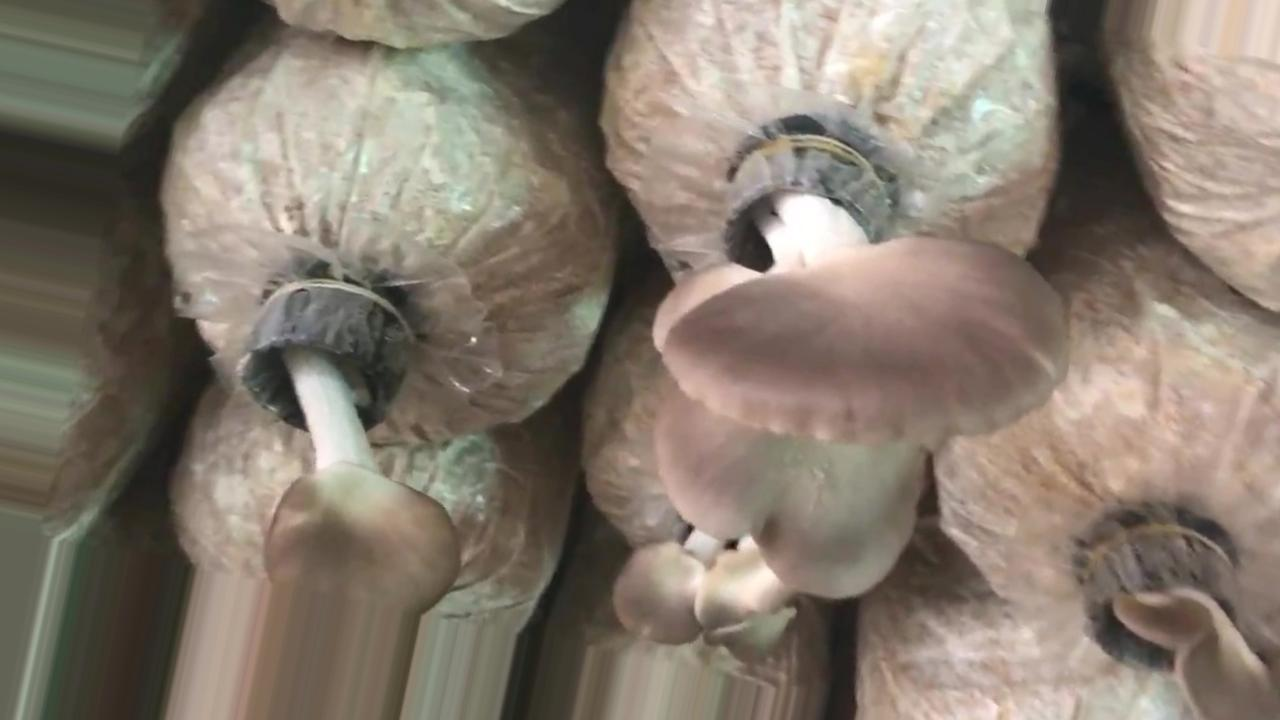nam: (614, 145, 1070, 646), (241, 287, 457, 720), (1092, 533, 1280, 717)
